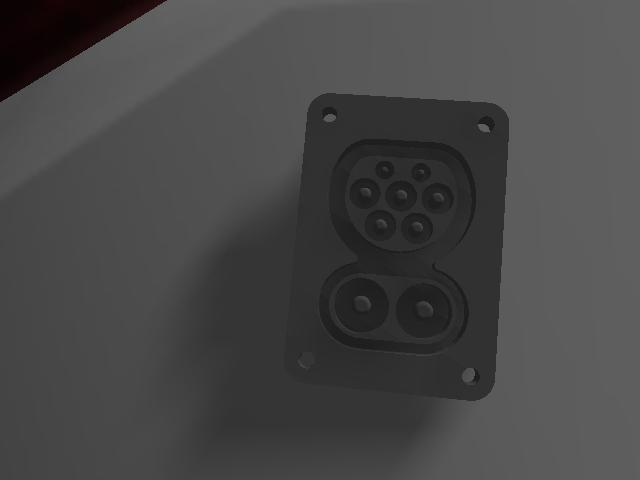EV-socket: (283, 93, 509, 400)
